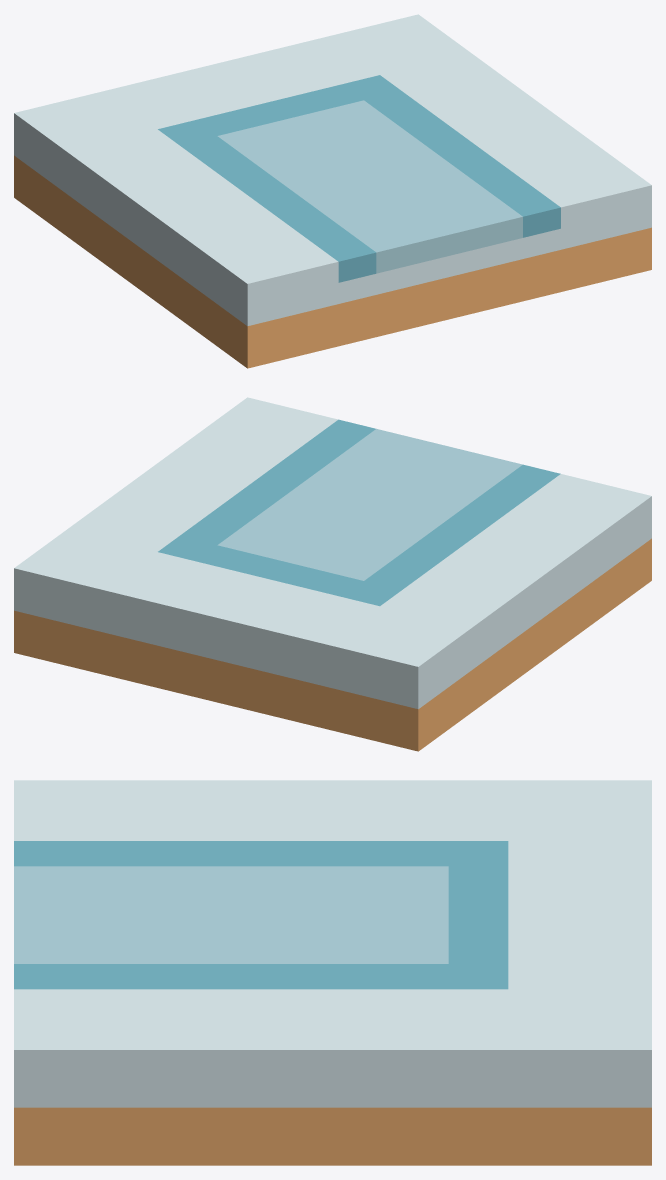
File: snow_tile_end(+).fbx
The picture shows the model from 3 angles, top to bottom: view 1: azimuth 30°, elevation 25°; view 2: azimuth 150°, elevation 25°; view 3: azimuth 270°, elevation 25°; orthographic projection. The views are drawn at different scales.
Visible parts, largest first — view 1: Mesh_0; view 2: Mesh_0; view 3: Mesh_0.
Boxes of the visible parts, box(x1,y1,x2,y2) form: Mesh_0: box(14, 14, 651, 368); Mesh_0: box(14, 397, 651, 751); Mesh_0: box(14, 780, 651, 1165).
Size of the model in its own units: 100 by 20 by 100.
